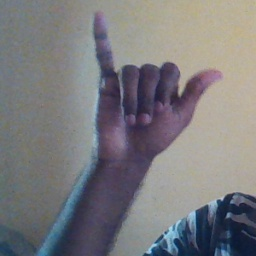J: (87, 9, 228, 167)
